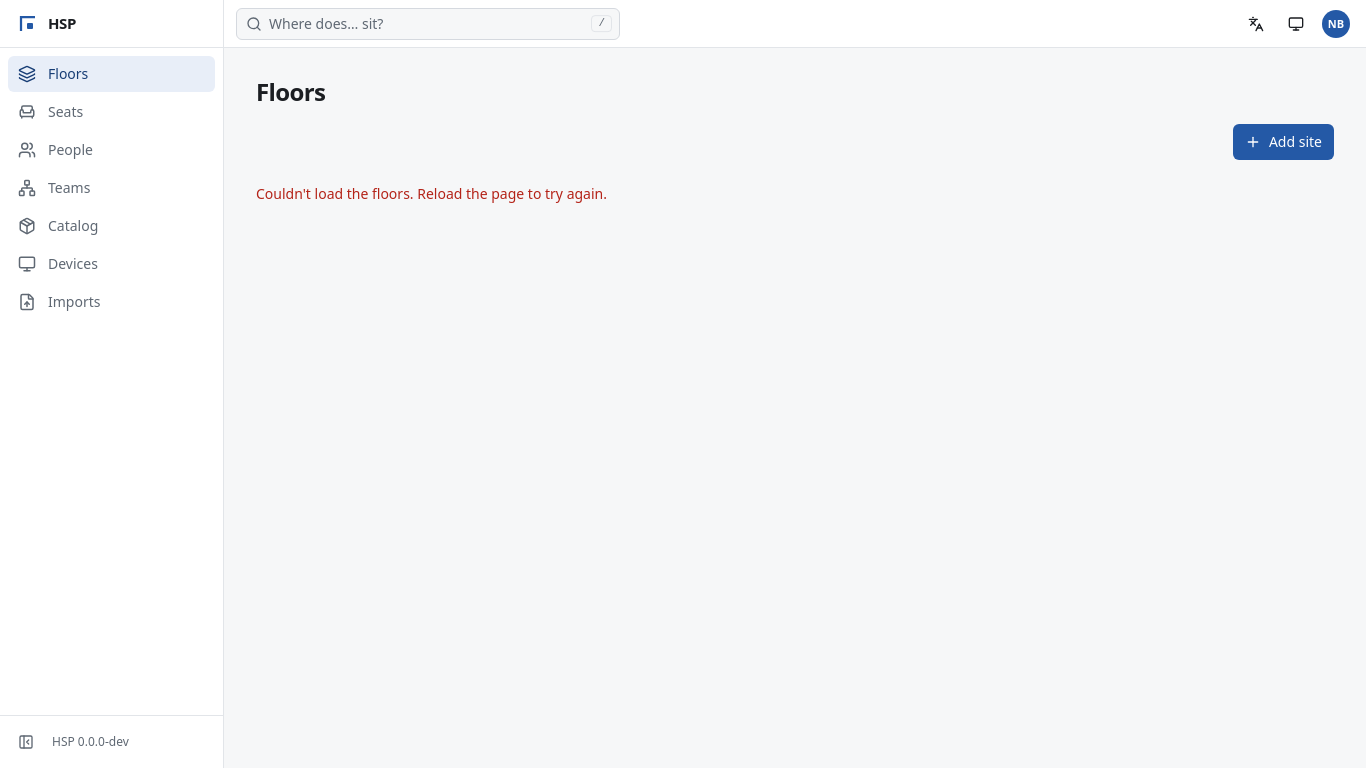
Test: app shell (docs/0087) › shows the release version at the bottom of the sidebar, unless collapsed (docs/0104)
Expected: the navigation bar named "Main" is shown, [8,56,215,311]
Expected: the text "HSP 0.0.0-dev" is shown, [52,734,129,750]
Click the button named "Collapse sidebar".
click(26, 742)  # box [8,724,44,760]
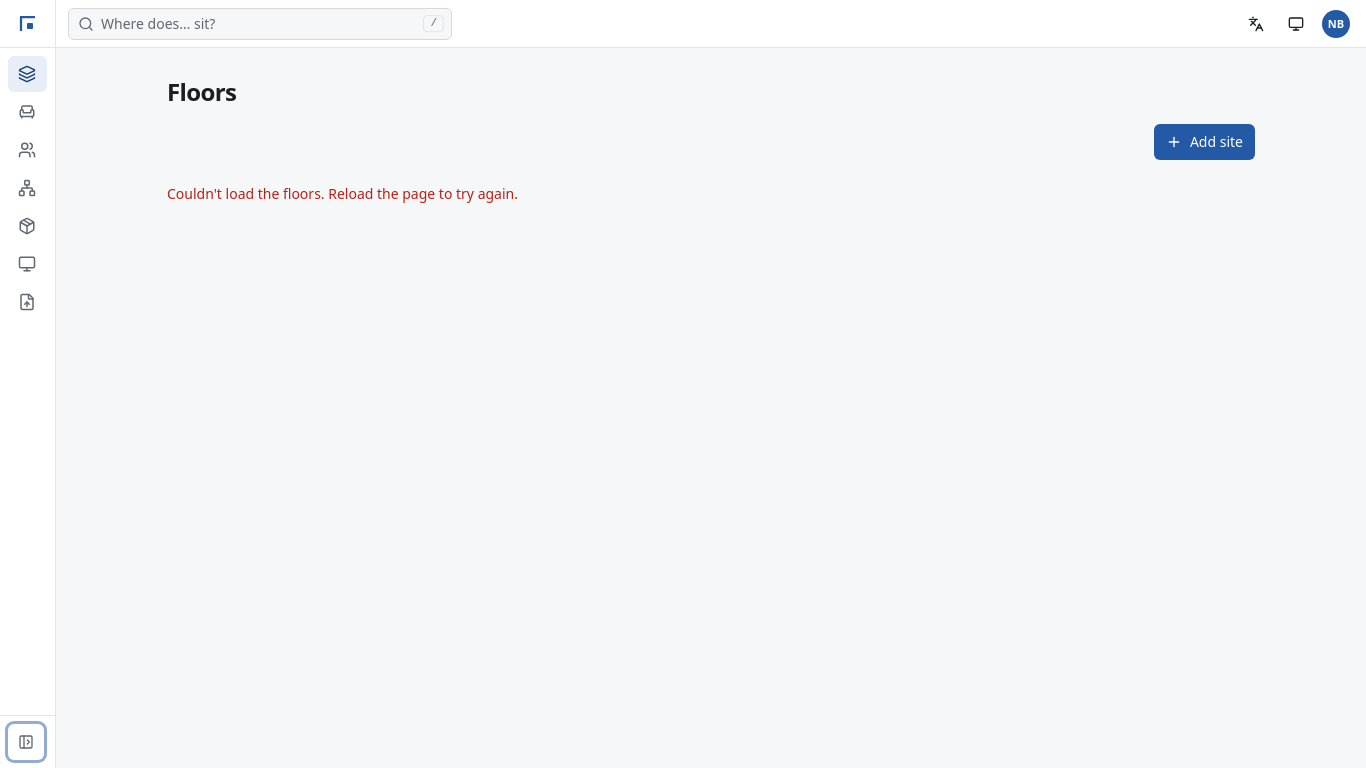
Expected: the text "HSP 0.0.0-dev" is gone
